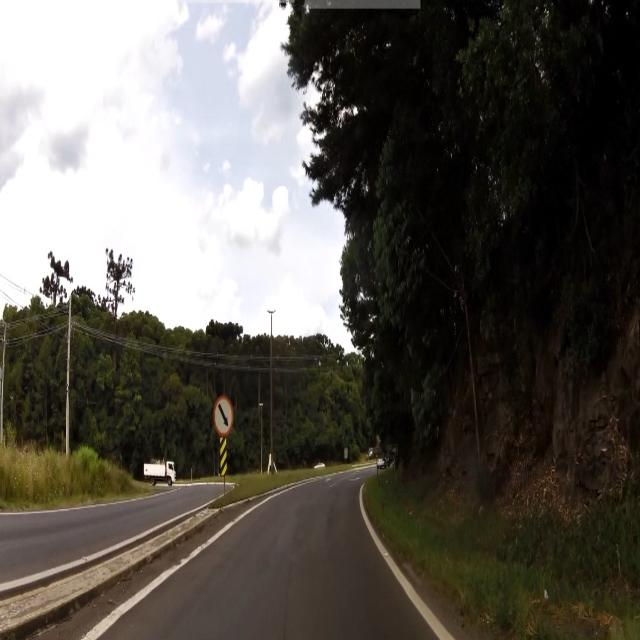MP: (220, 438, 228, 480)
R-24b: (214, 394, 233, 438)
